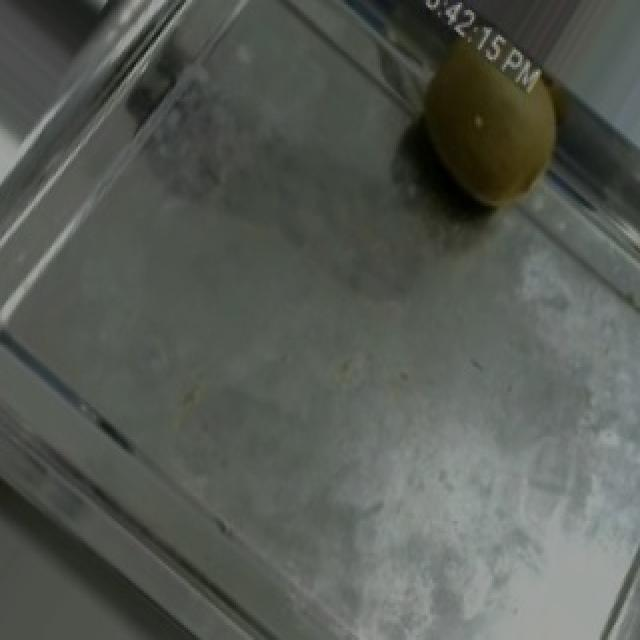Fruit: (378, 0, 600, 243)
